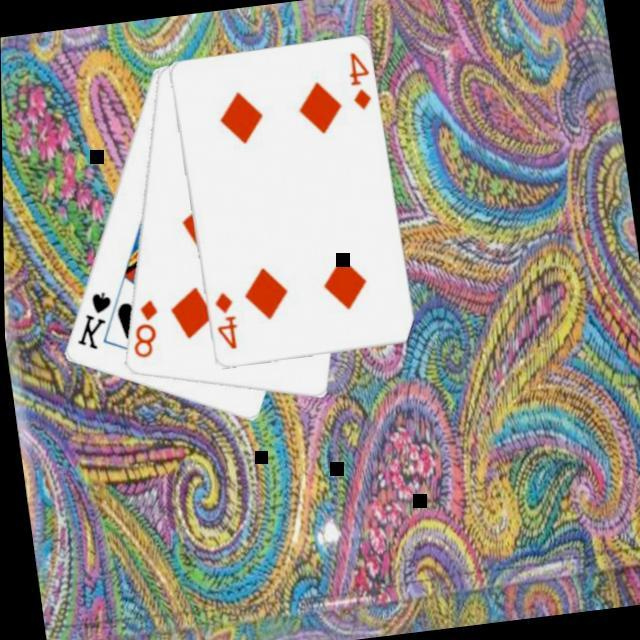4D: (210, 287, 244, 354), (343, 47, 377, 114)
8D: (123, 294, 167, 362)
KS: (66, 286, 120, 353)
